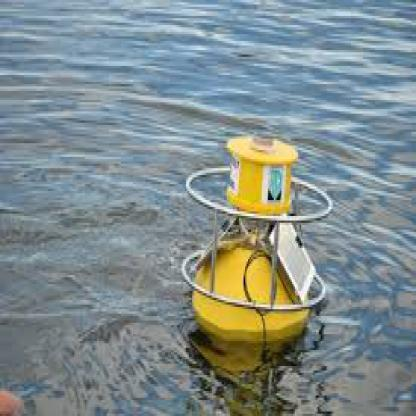buoy: (169, 111, 344, 375)
